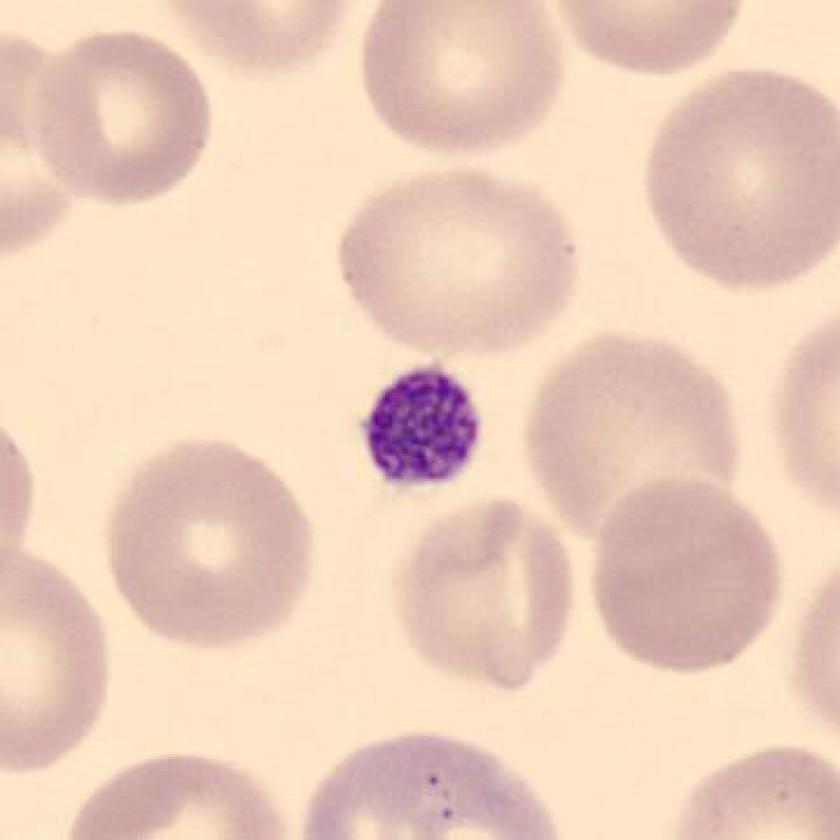platelets: (358, 357, 493, 501)
